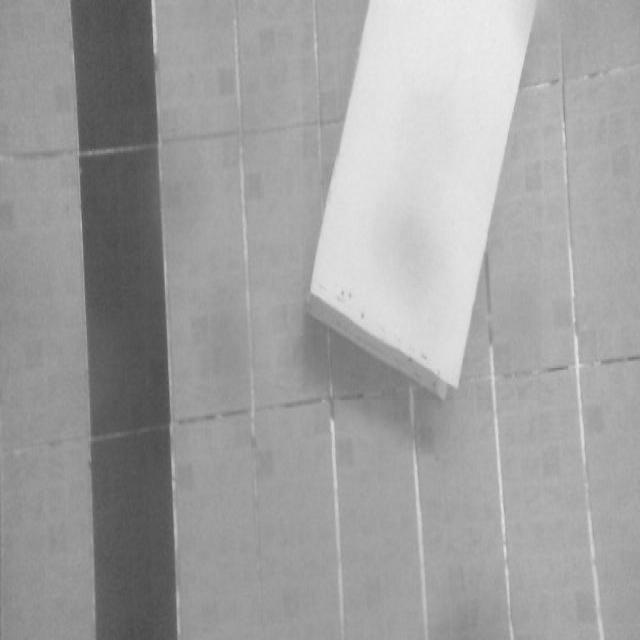Cuboid: (303, 0, 541, 400)
